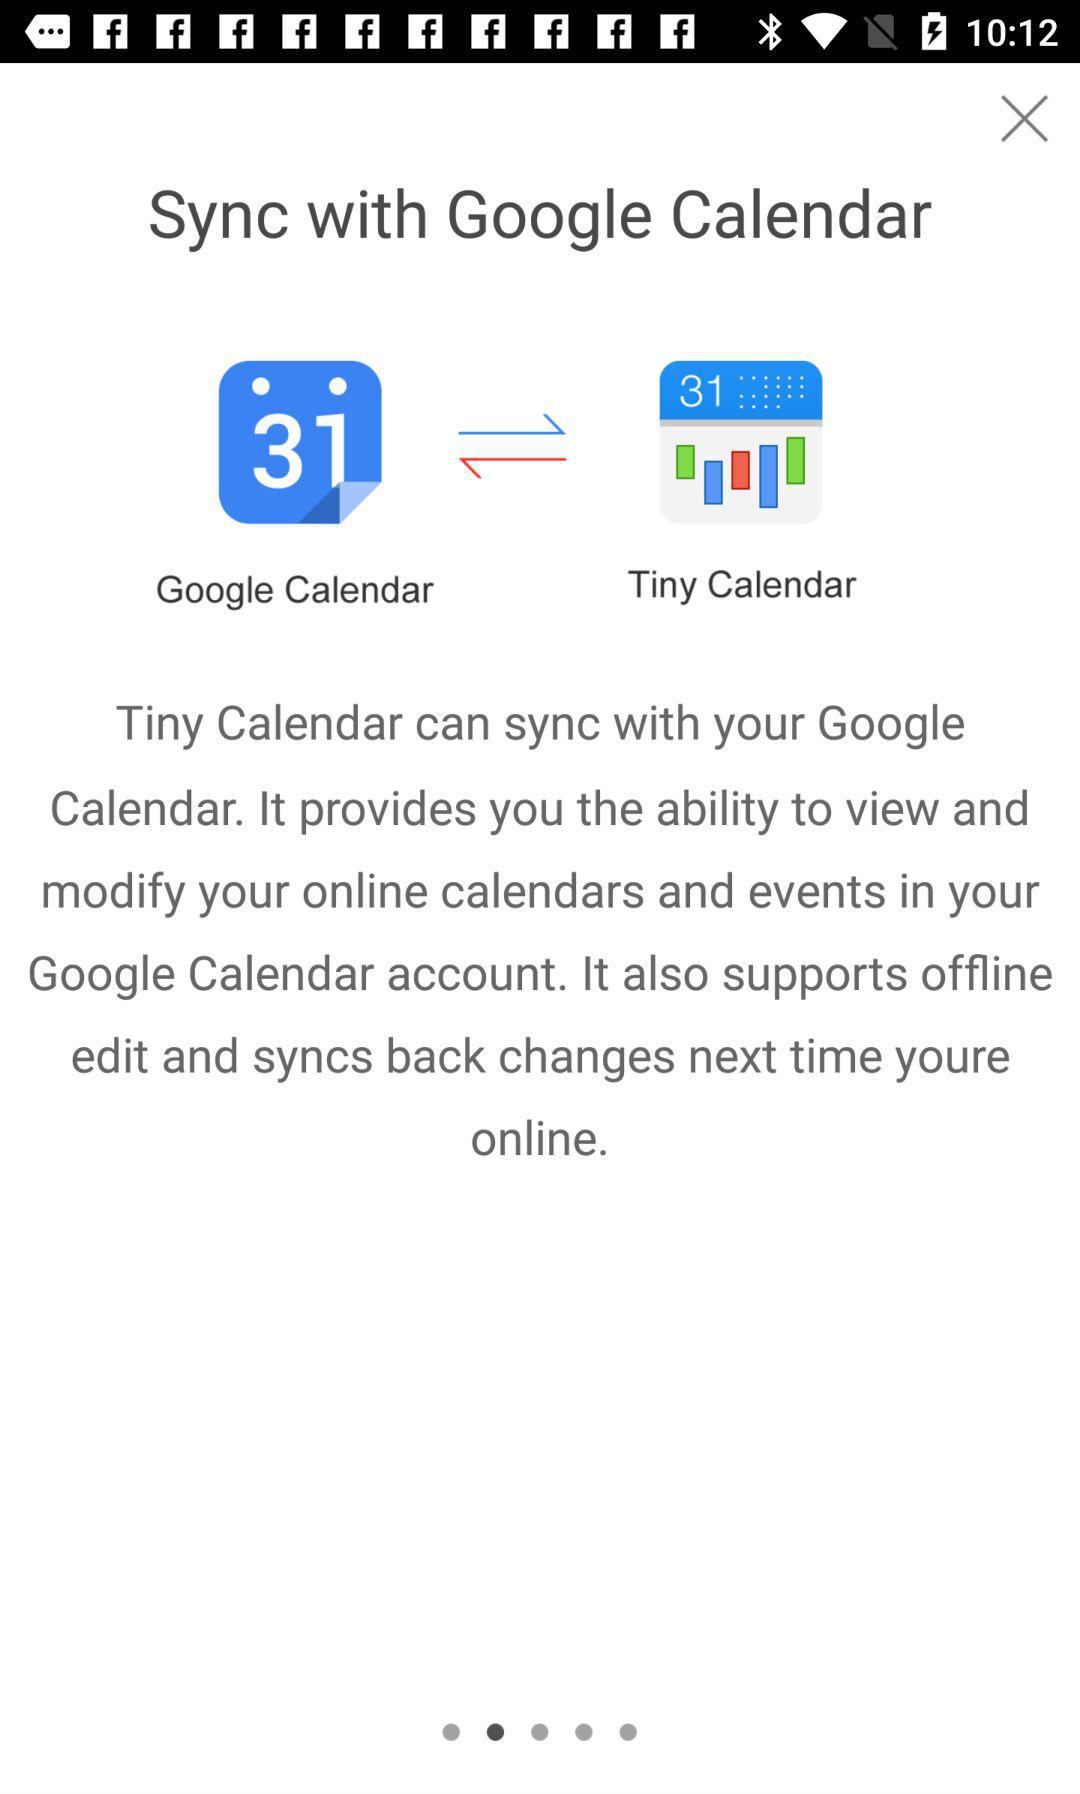Icon: (457, 413, 569, 481), (1001, 95, 1049, 144)
Image: (218, 359, 384, 527), (659, 361, 824, 525)
PageIndicator: (441, 1721, 639, 1743)
Text: (29, 702, 1053, 1158), (150, 187, 933, 255), (158, 574, 436, 613), (626, 569, 858, 607)
UpperTaskBar: (1, 1, 1080, 64)
